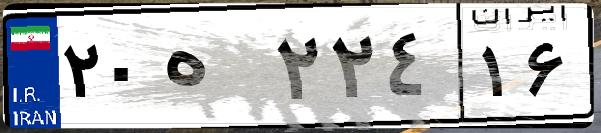0: (110, 28, 158, 98)
1: (475, 38, 525, 113)
2: (270, 28, 330, 110), (330, 28, 385, 110), (57, 26, 110, 100)
4: (385, 28, 445, 110)
6: (525, 38, 570, 115)
ه: (158, 20, 270, 120)
